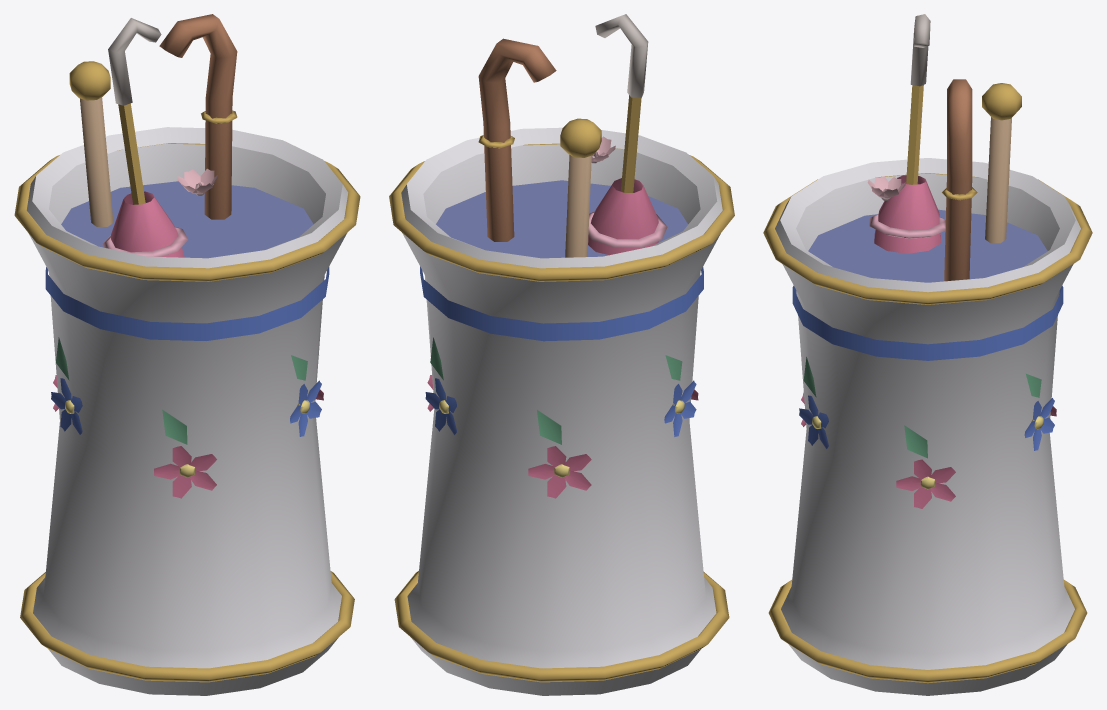
File: umbrella_stand.glb
The picture shows the model from 3 angles, left to right: view 1: azimuth 30°, elevation 25°; view 2: azimuth 150°, elevation 25°; view 3: azimuth 270°, elevation 25°; orthographic projection. The views are drawn at different scales.
Parts seen in each view (by area): view 1: umbrella_stand; view 2: umbrella_stand; view 3: umbrella_stand.
Boxes of the visible parts, box(x1,y1,x2,y2) form: umbrella_stand: box(14, 14, 360, 695); umbrella_stand: box(389, 14, 734, 695); umbrella_stand: box(763, 14, 1092, 695).
Size of what is drawn, in the model's own units: 0.35 by 0.7 by 0.35.
